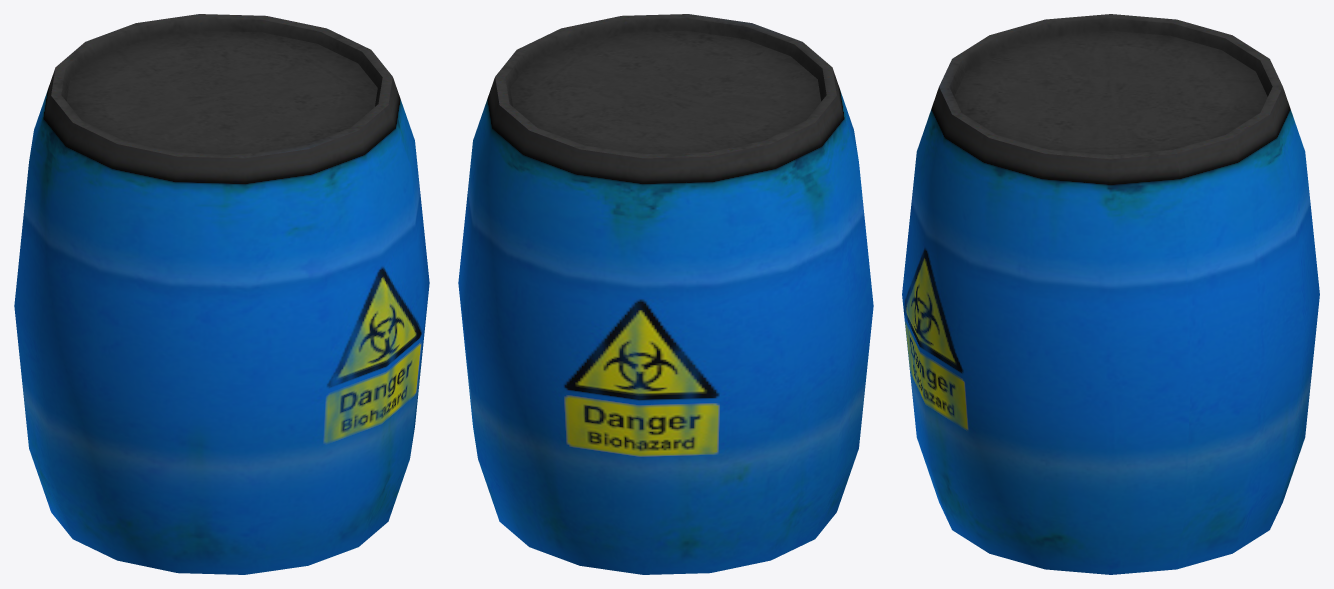
File: PlasticBarrel.dae
3 renders of one model, left to right at view 1: azimuth 30°, elevation 25°; view 2: azimuth 150°, elevation 25°; view 3: azimuth 270°, elevation 25°, orthographic.
Parts seen in each view (by area): view 1: Barrel; view 2: Barrel; view 3: Barrel.
Part boxes in pixels (x1,y1,x2,y2): Barrel: (14, 14, 429, 574); Barrel: (458, 14, 873, 574); Barrel: (902, 14, 1319, 574).
Size of the model in its own units: 28.7 by 28.7 by 31.5.
Materials: 1 (1 with a texture image).
